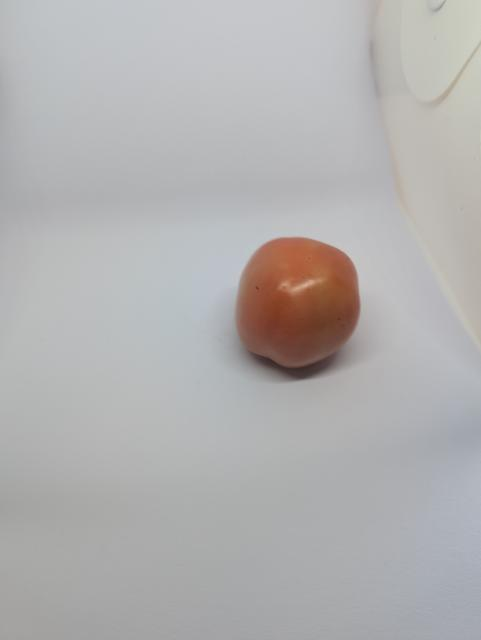turning: (231, 229, 368, 376)
